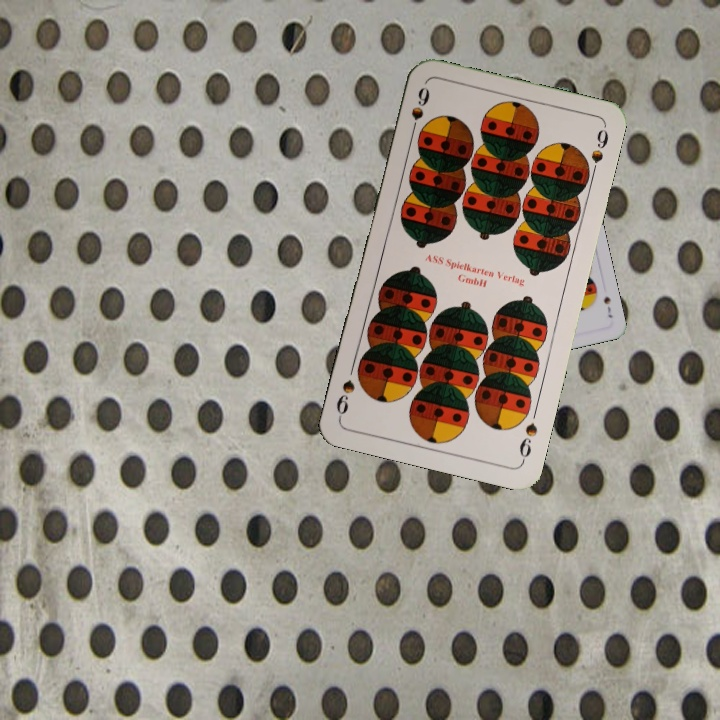S7: (600, 293, 615, 320)
S9: (406, 83, 432, 140), (515, 418, 540, 465)
